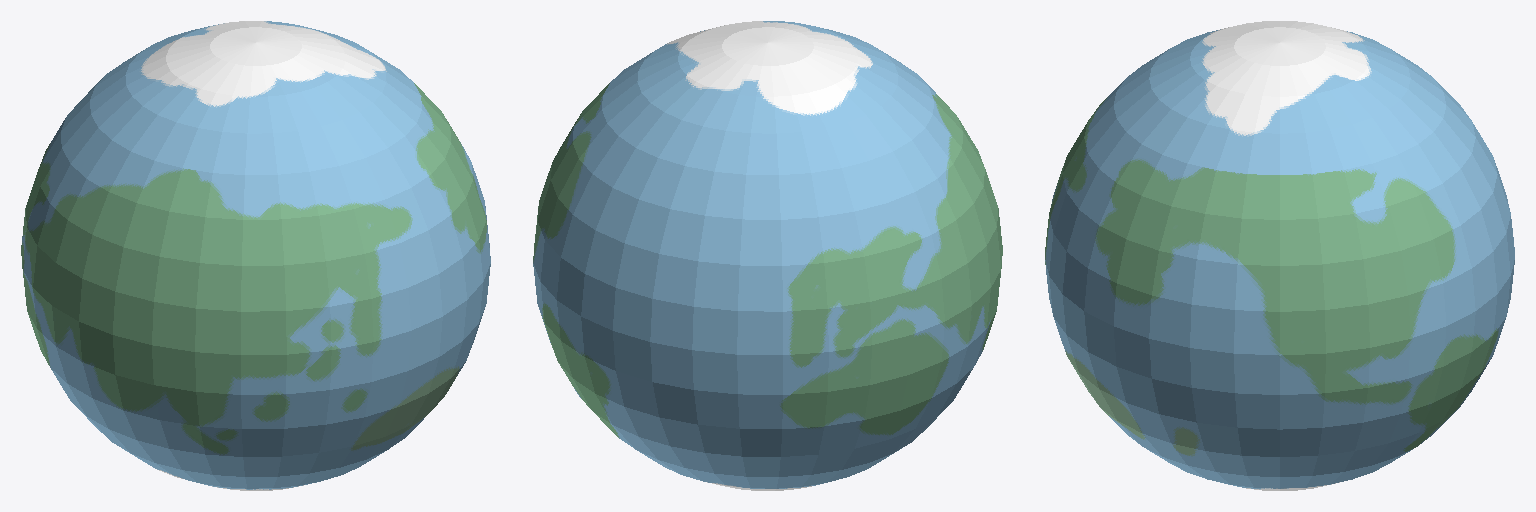
3 views of the same model, side by side, from view 1: azimuth 30°, elevation 25°; view 2: azimuth 150°, elevation 25°; view 3: azimuth 270°, elevation 25° (orthographic).
Parts seen in each view (by area): view 1: 球; view 2: 球; view 3: 球.
Part boxes in pixels (x1,y1,x2,y2): 球: (21, 21, 490, 490); 球: (533, 21, 1002, 490); 球: (1045, 21, 1514, 490).
Bounding box in the file's own units: 2 × 2 × 2.
Materials: 1 (1 with a texture image).